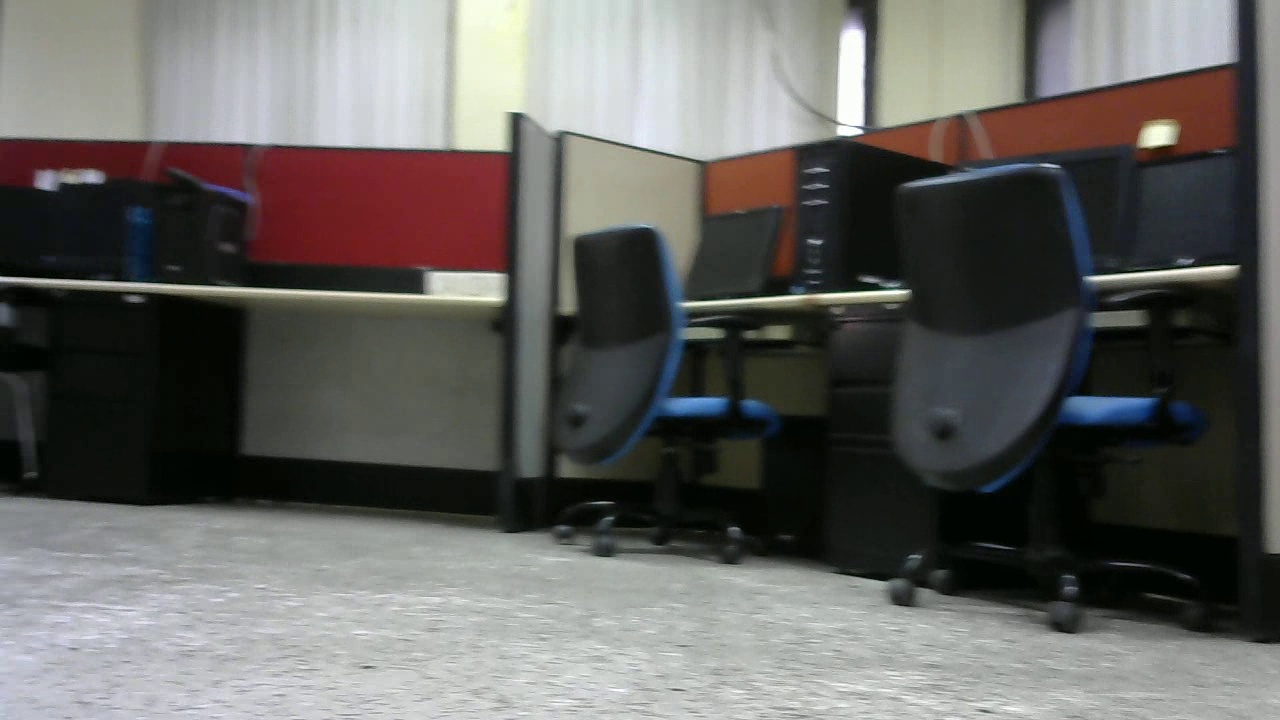chair: (873, 161, 1213, 638), (544, 220, 784, 568)
